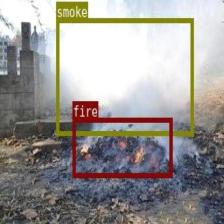fire: (72, 116, 172, 176)
smoke: (56, 18, 192, 135)
